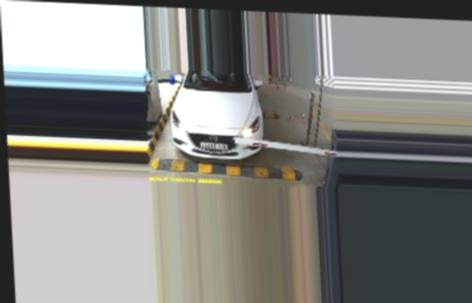License_Plate: (198, 139, 229, 152)
